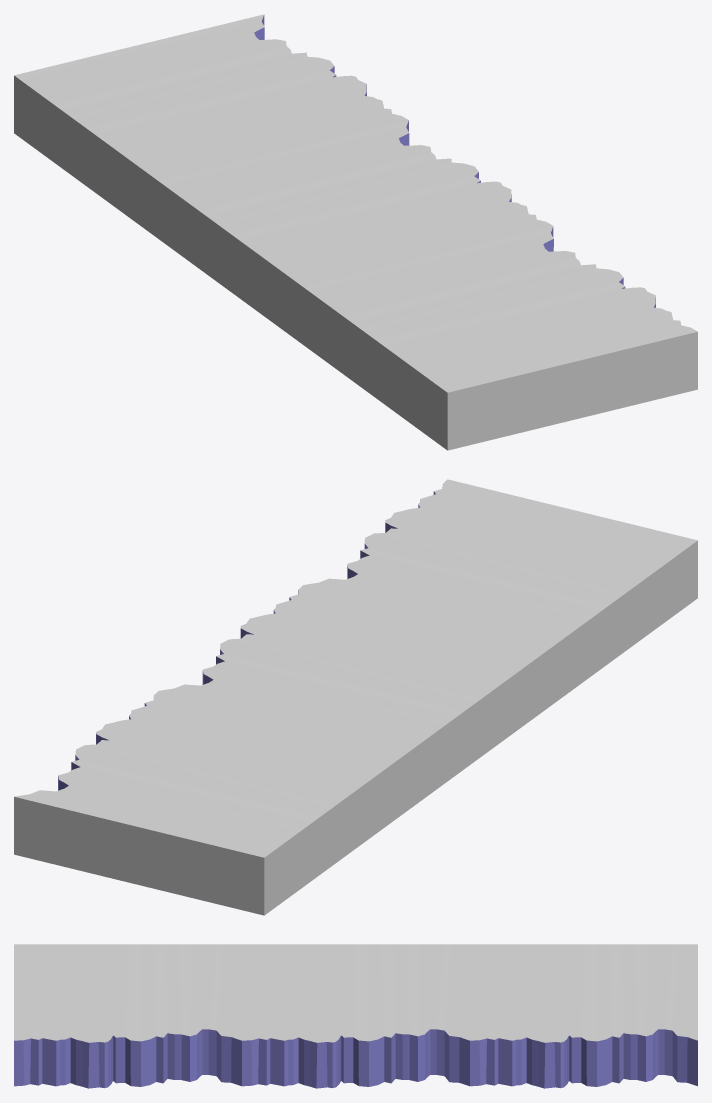
Rendered from ADS 2.fbx.
3 renders of one model, top to bottom at view 1: azimuth 30°, elevation 25°; view 2: azimuth 150°, elevation 25°; view 3: azimuth 270°, elevation 25°, orthographic. The views are drawn at different scales.
Visible parts, largest first — view 1: Plane; view 2: Plane; view 3: Plane.
Part boxes in pixels (box(x1,y1,x2,y2)): Plane: box(14, 14, 697, 450); Plane: box(14, 479, 697, 915); Plane: box(14, 944, 697, 1088).
Bounding box in the file's own units: 205 × 45.13 × 600.
